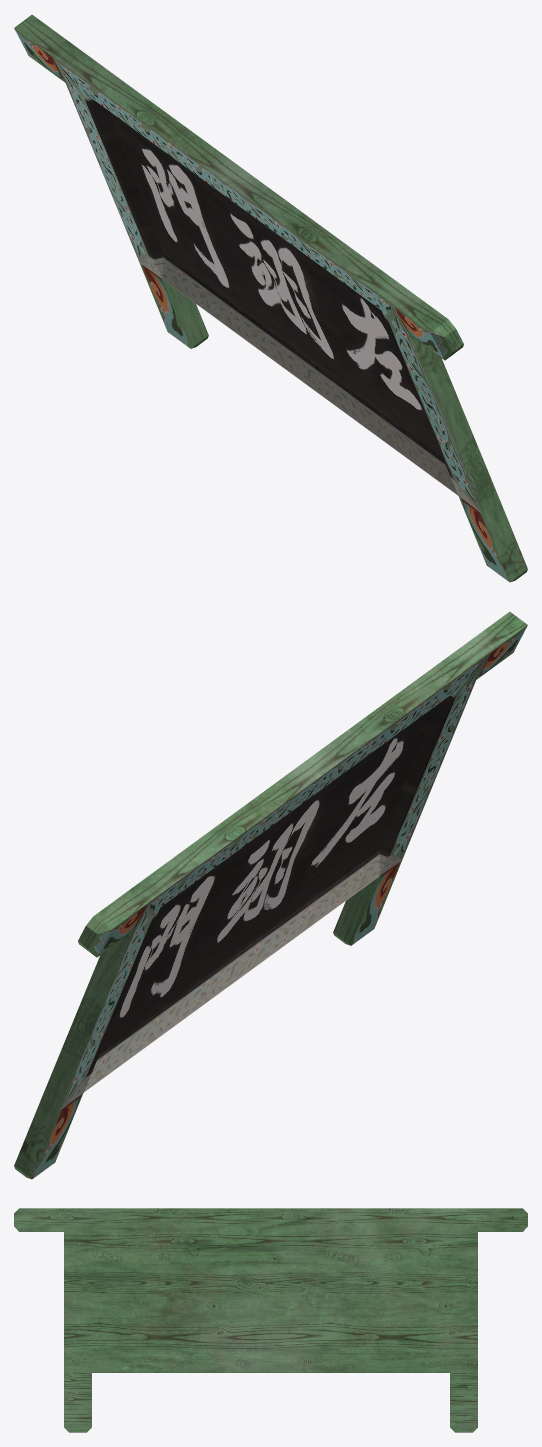
Rendered from SM_R_Sign_2.fbx.
The picture shows the model from 3 angles, top to bottom: view 1: azimuth 30°, elevation 25°; view 2: azimuth 150°, elevation 25°; view 3: azimuth 270°, elevation 25°; orthographic projection. The views are drawn at different scales.
Parts seen in each view (by area): view 1: SM_R_Sign_2; view 2: SM_R_Sign_2; view 3: SM_R_Sign_2.
Boxes of the visible parts, bbox=[...] form: SM_R_Sign_2: bbox=[14, 14, 527, 582]; SM_R_Sign_2: bbox=[14, 611, 527, 1179]; SM_R_Sign_2: bbox=[14, 1208, 527, 1432].
Size of the model in its own units: 52.11 by 278 by 115.
Materials: 2 (2 with a texture image).
